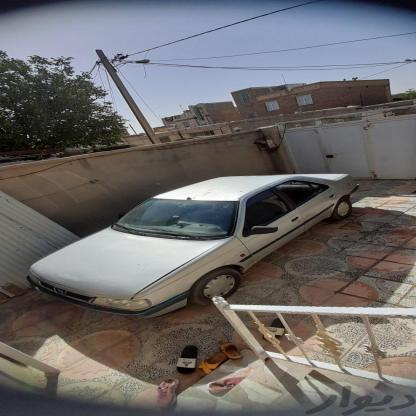Car: (7, 172, 367, 311)
